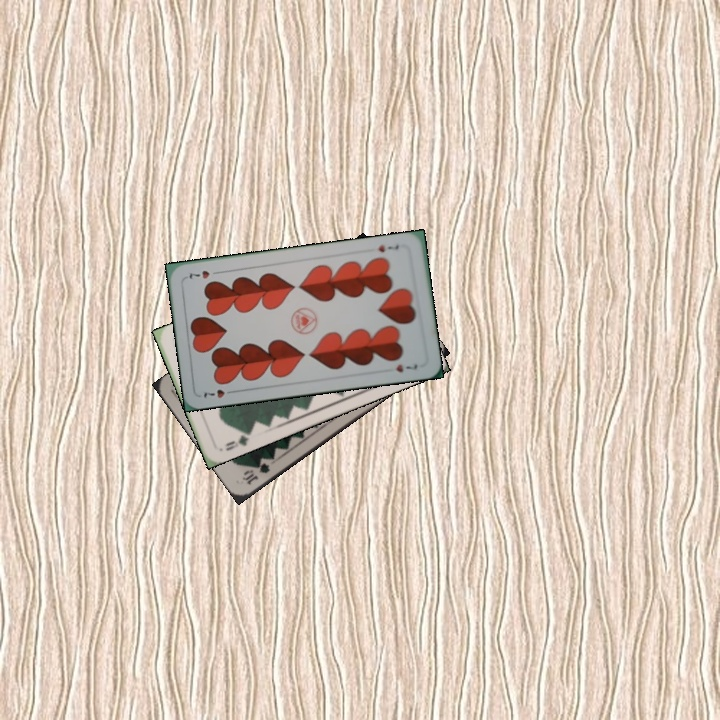G10: (238, 459, 272, 487)
G9: (220, 427, 254, 454)
H7: (200, 385, 238, 401), (374, 240, 401, 255)
